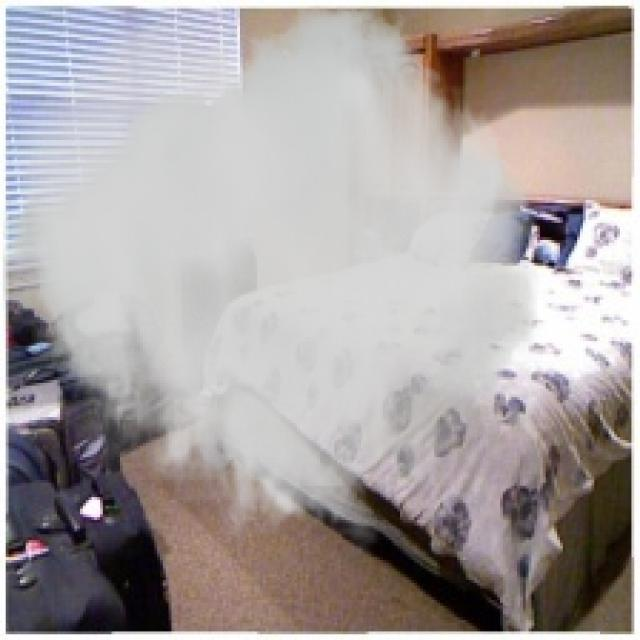Smoke: (3, 6, 546, 554)
